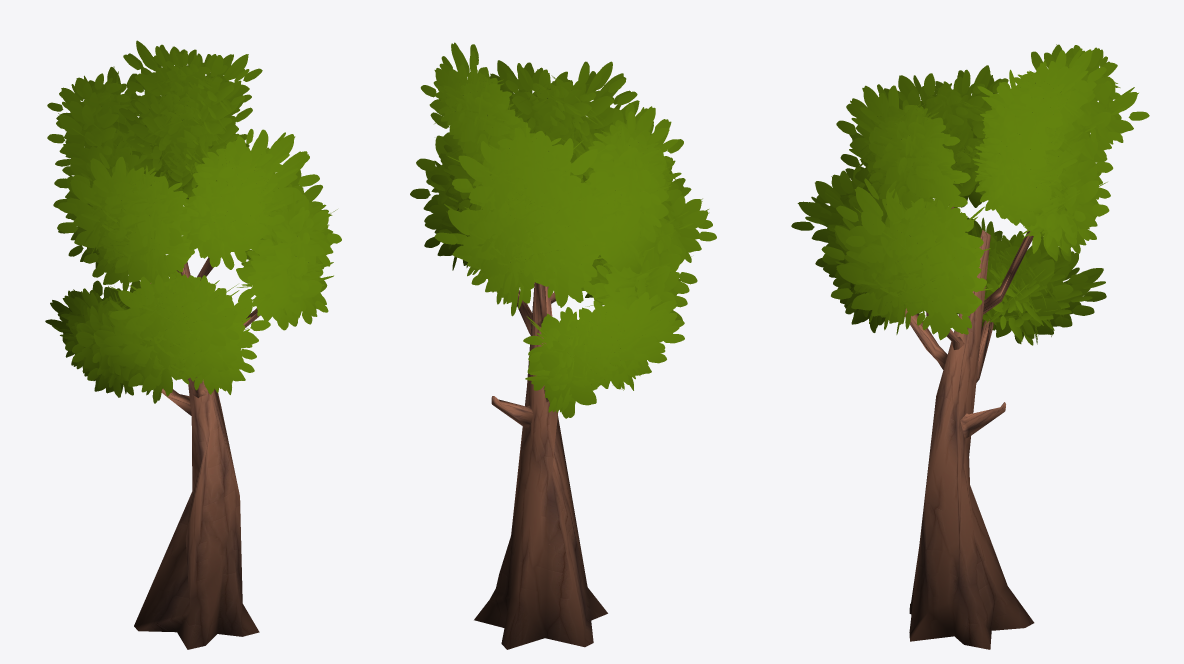
File: CommonTree_5@lod.gltf
3 renders of one model, left to right at view 1: azimuth 30°, elevation 25°; view 2: azimuth 150°, elevation 25°; view 3: azimuth 270°, elevation 25°, orthographic. The views are drawn at different scales.
Parts seen in each view (by area): view 1: CommonTree_5; view 2: CommonTree_5; view 3: CommonTree_5.
Boxes of the visible parts, x1,y1,x2,y2 form: CommonTree_5: (45,40,341,649); CommonTree_5: (410,42,716,649); CommonTree_5: (791,44,1149,649).
Size of the model in its own units: 3.67 by 7.01 by 4.22.
Materials: 2 (2 with a texture image).
